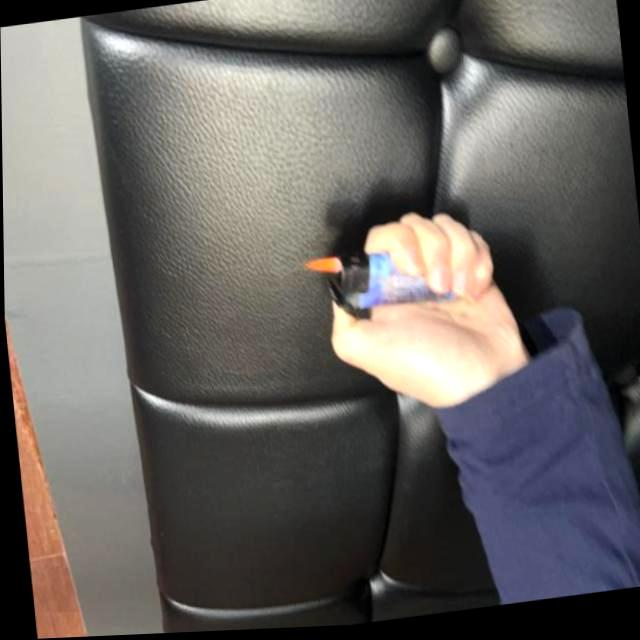fire: (298, 253, 342, 283)
